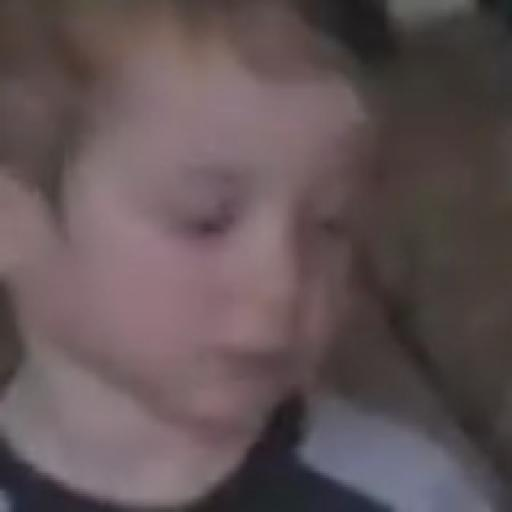Autism: (23, 10, 428, 417)
